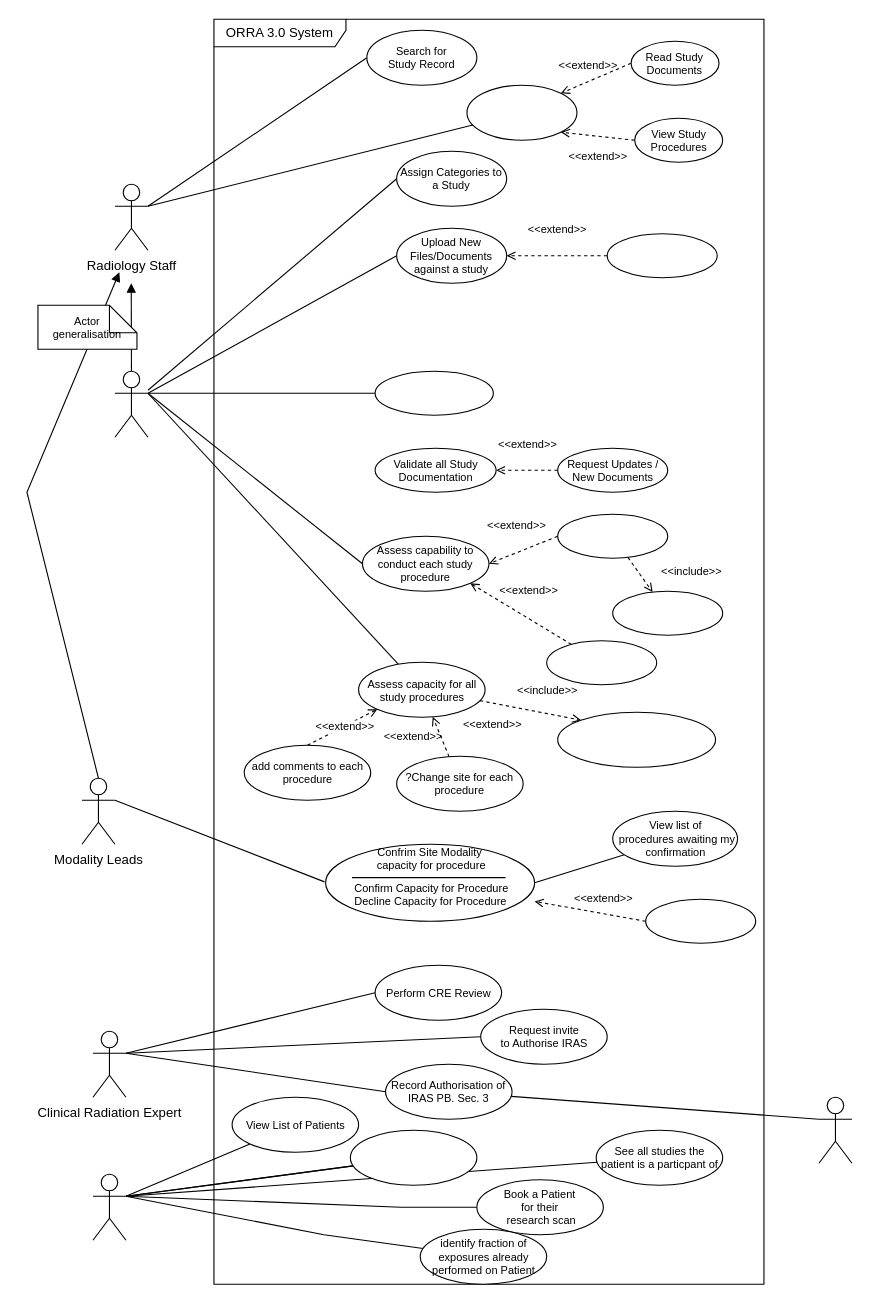
The diagram is 886 pixels wide and 1304 high, and some of its shapes have lost their labels. Here are the shapes that lost their labels. From the top down, the box of each, then its label:
(466, 84, 577, 140): View Study Record Details
(606, 233, 717, 278): Superseed Current Document Files
(114, 370, 148, 437): Research Radiographers
(374, 370, 493, 415): Archive Uploaded Files / Documents
(557, 513, 668, 558): Reject capability
(612, 590, 723, 635): Provide Rejection Explaination
(546, 640, 657, 685): Accept capability
(557, 711, 716, 767): Request confirmation of capacity for procedure from Modality Leads
(645, 898, 756, 943): add a comment against procedure
(818, 1096, 852, 1163): <<IRAS>>
(349, 1129, 477, 1185): search for a patient
(92, 1173, 126, 1240): Radiology Appointment Coordinators
